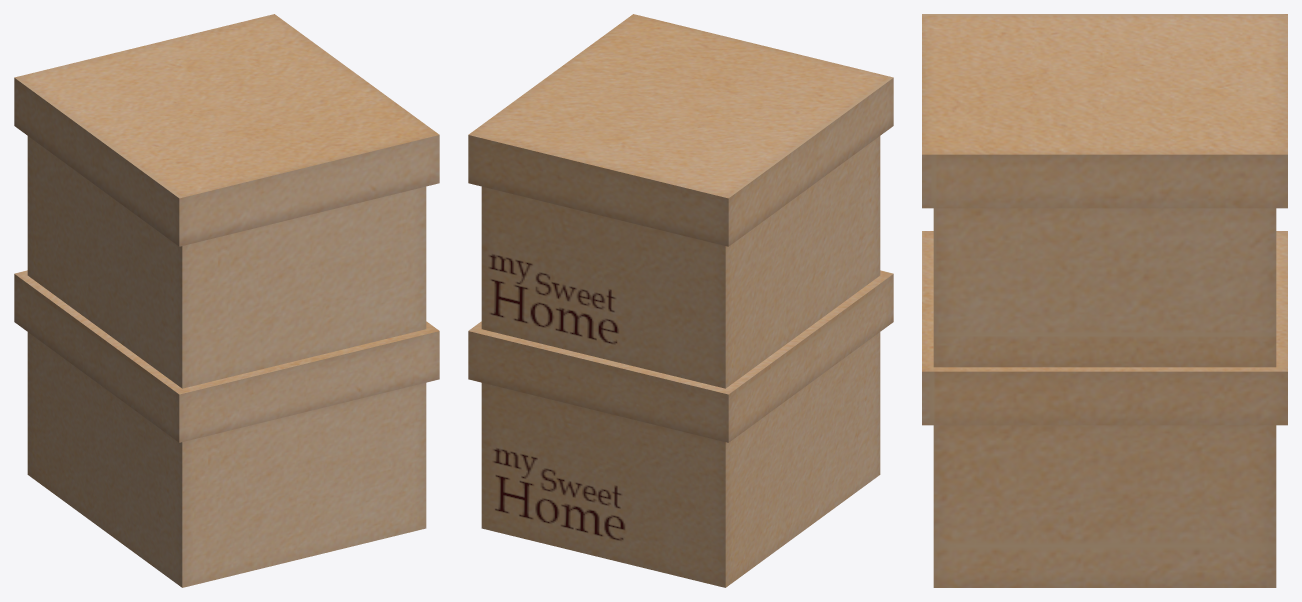
The picture shows the model from 3 angles, left to right: view 1: azimuth 30°, elevation 25°; view 2: azimuth 150°, elevation 25°; view 3: azimuth 270°, elevation 25°; orthographic projection. The views are drawn at different scales.
Parts seen in each view (by area): view 1: Box01; view 2: Box01; view 3: Box01.
Boxes of the visible parts, x1,y1,x2,y2 form: Box01: (14, 14, 439, 587); Box01: (468, 14, 893, 587); Box01: (922, 14, 1287, 587).
Size of the model in its own units: 18.79 by 27.27 by 20.65.
